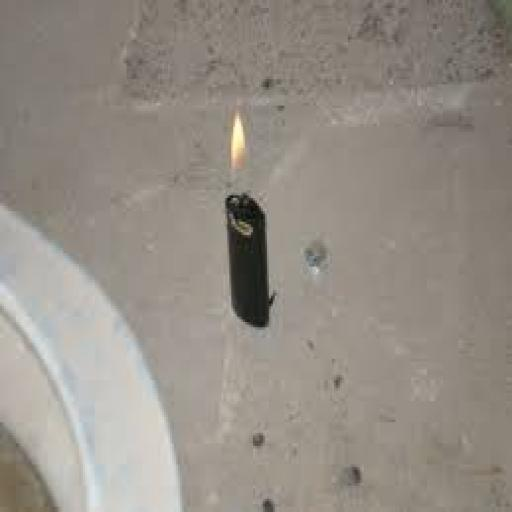fire: (215, 108, 263, 201)
